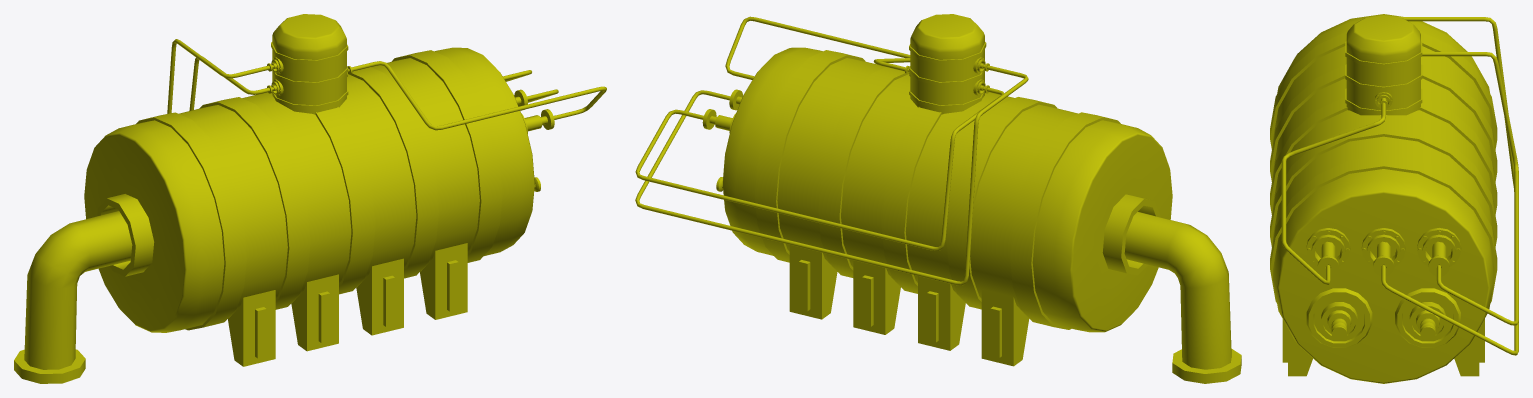
File: Boiler 1.fbx
3 views of the same model, side by side, from view 1: azimuth 30°, elevation 25°; view 2: azimuth 150°, elevation 25°; view 3: azimuth 270°, elevation 25° (orthographic). The views are drawn at different scales.
Visible parts, largest first — view 1: engineSet1; view 2: engineSet1; view 3: engineSet1.
Boxes of the visible parts, bbox=[...] form: engineSet1: bbox=[14, 14, 606, 383]; engineSet1: bbox=[635, 14, 1241, 383]; engineSet1: bbox=[1270, 14, 1518, 383].
Bounding box in the file's own units: 294 × 145 × 112.
